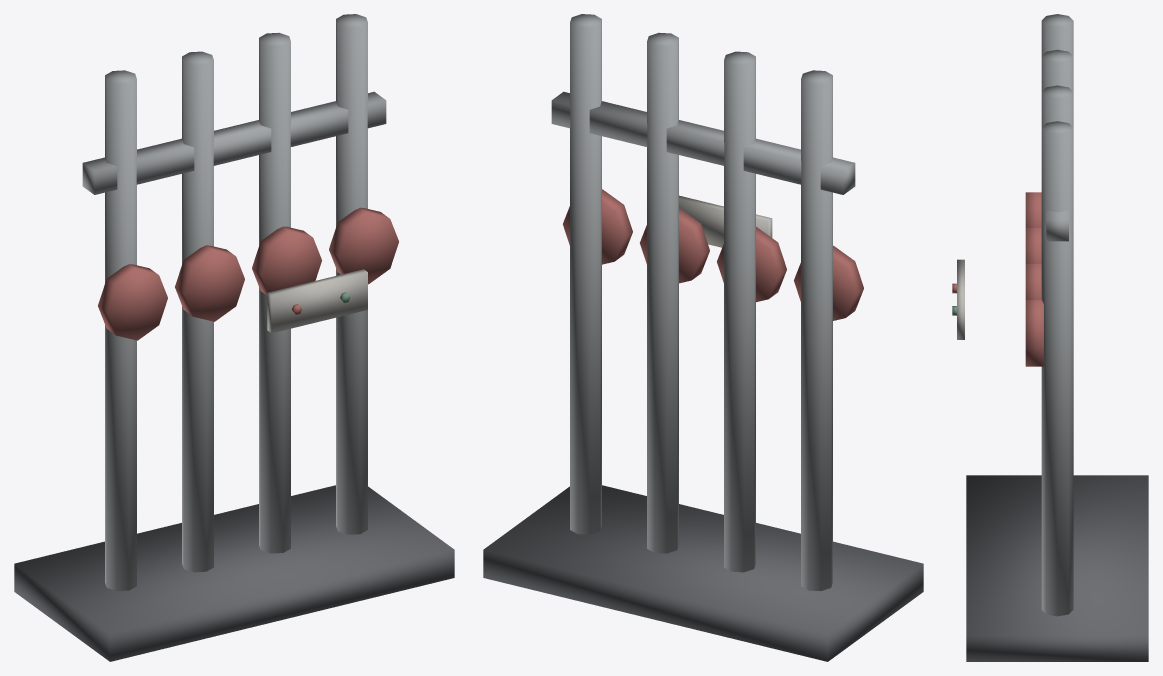
File: pipe_valve_station__compact.glb
The picture shows the model from 3 angles, left to right: view 1: azimuth 30°, elevation 25°; view 2: azimuth 150°, elevation 25°; view 3: azimuth 270°, elevation 25°; orthographic projection. The views are drawn at different scales.
Visible parts, largest first — view 1: world; view 2: world; view 3: world.
Boxes of the visible parts, <box> form: world: <box>14,14,454,661</box>; world: <box>483,14,923,661</box>; world: <box>952,14,1148,661</box>.
Size of the model in its own units: 0.714 by 1.06 by 0.3707.
